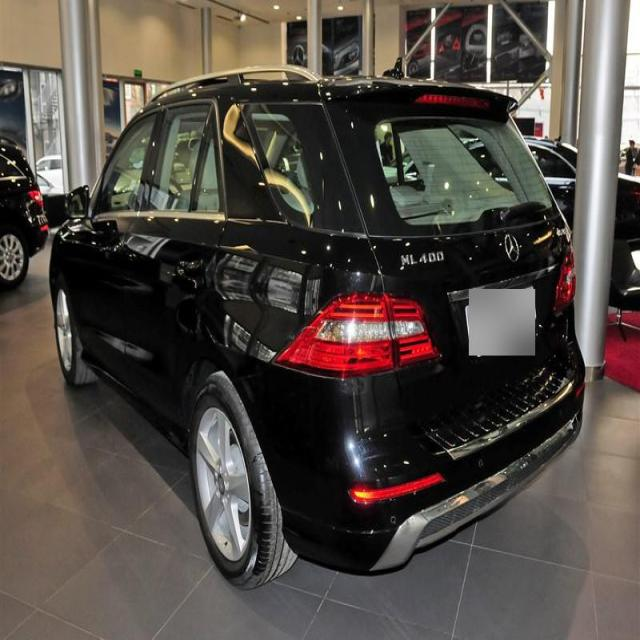back_glass: (367, 108, 558, 236)
back_left_side_light: (272, 292, 442, 381)
back_right_side_light: (551, 237, 577, 312)
door: (131, 100, 224, 396)
front_left_side_door: (85, 103, 162, 387)
front_left_side_mirror: (65, 184, 90, 221)
rear_bumper: (246, 332, 586, 576)
wheel: (187, 376, 285, 587), (56, 281, 86, 391)
